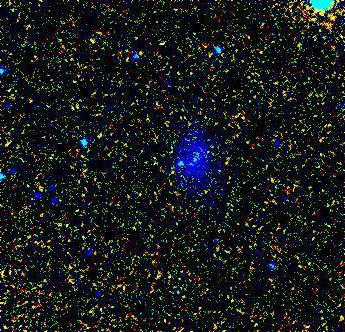star: (163, 148, 193, 178)
